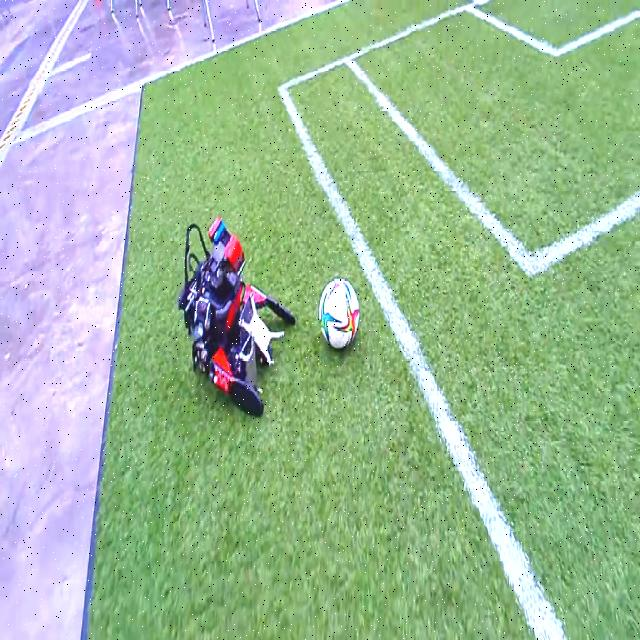ball: (319, 278, 360, 350)
